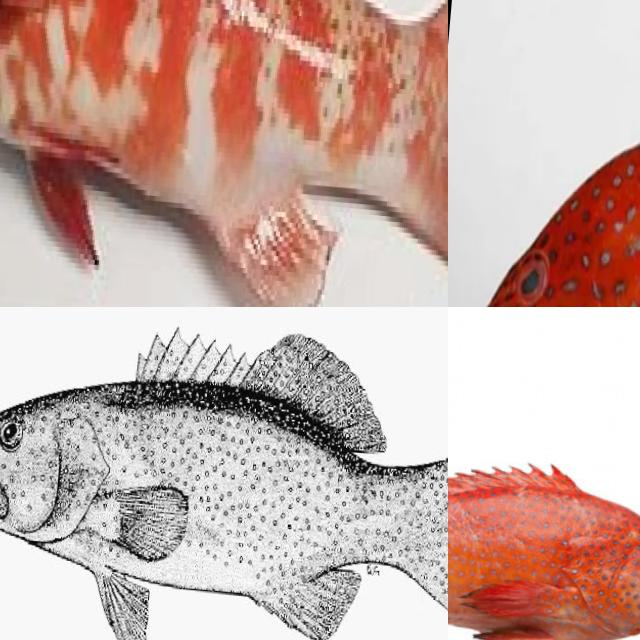Leopard coral grouper: (0, 307, 448, 640), (0, 0, 448, 307), (448, 27, 640, 307), (448, 425, 640, 640)
